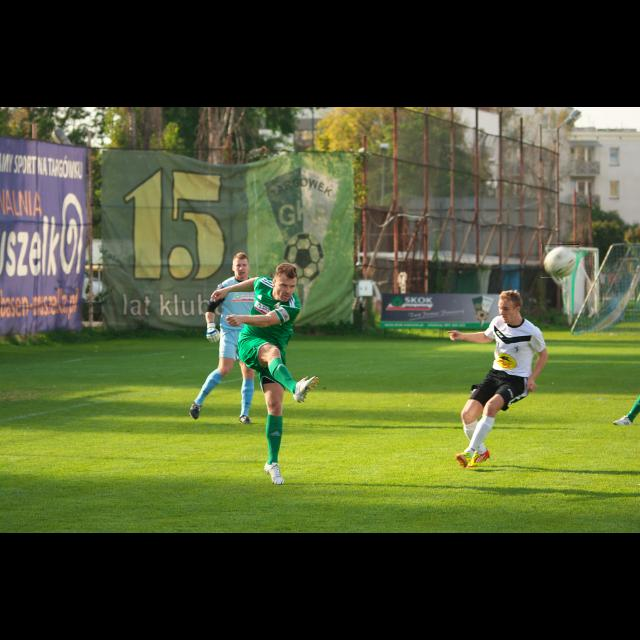Football: (541, 244, 579, 278)
